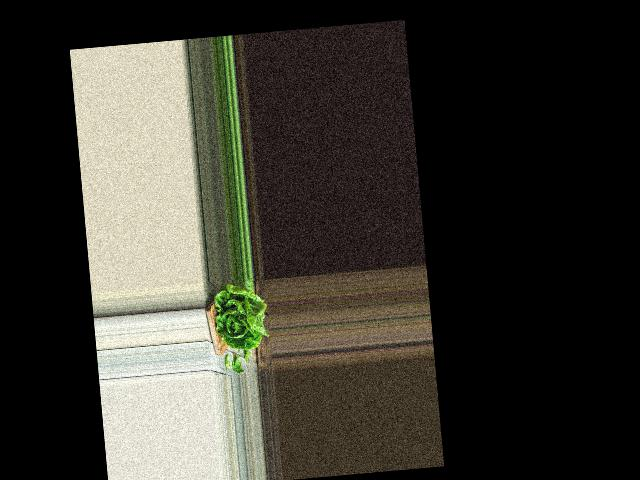lettuce: (209, 280, 268, 349)
